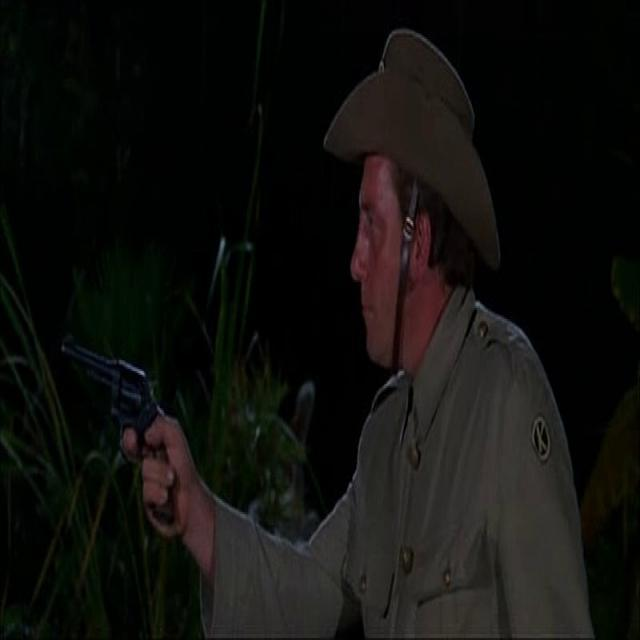gun-knife-thesis - v11 Yolov5 augmented: (62, 324, 191, 564)
